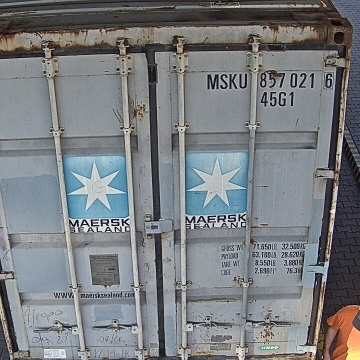serial_id: (207, 72, 333, 89)
